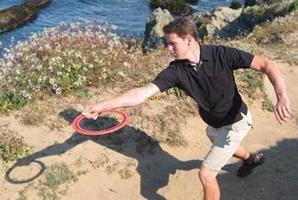person: (80, 18, 293, 200)
